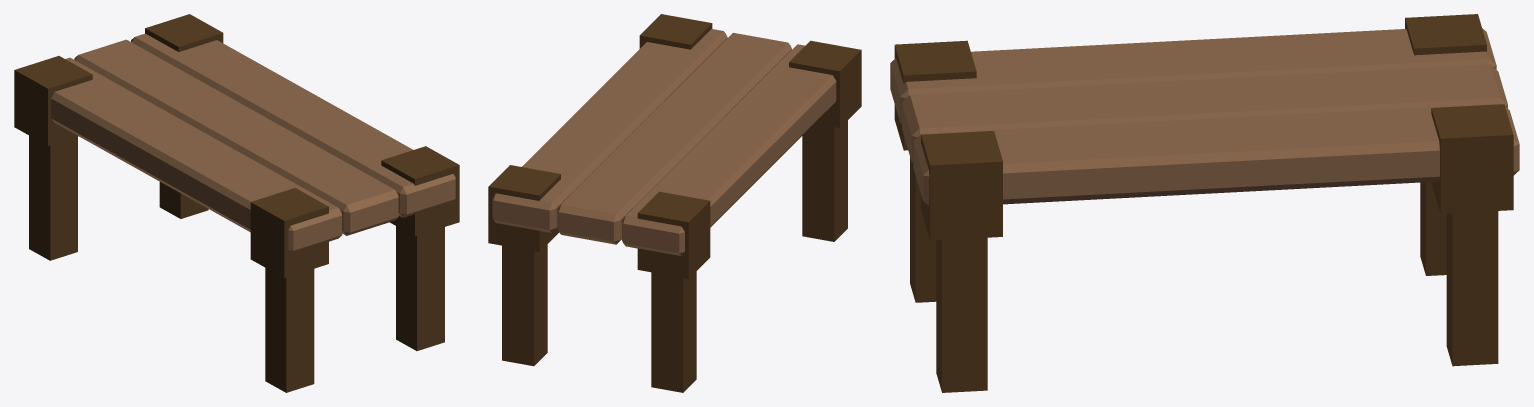
The model's file is market-table.fbx.
3 views of the same model, side by side, from view 1: azimuth 30°, elevation 25°; view 2: azimuth 150°, elevation 25°; view 3: azimuth 270°, elevation 25° (orthographic). The views are drawn at different scales.
Parts seen in each view (by area): view 1: Plane.072; view 2: Plane.072; view 3: Plane.072.
Boxes of the visible parts, x1,y1,x2,y2 form: Plane.072: (14, 14, 459, 392); Plane.072: (488, 14, 861, 392); Plane.072: (890, 14, 1519, 392).
Bounding box in the file's own units: 197 × 142 × 346.
